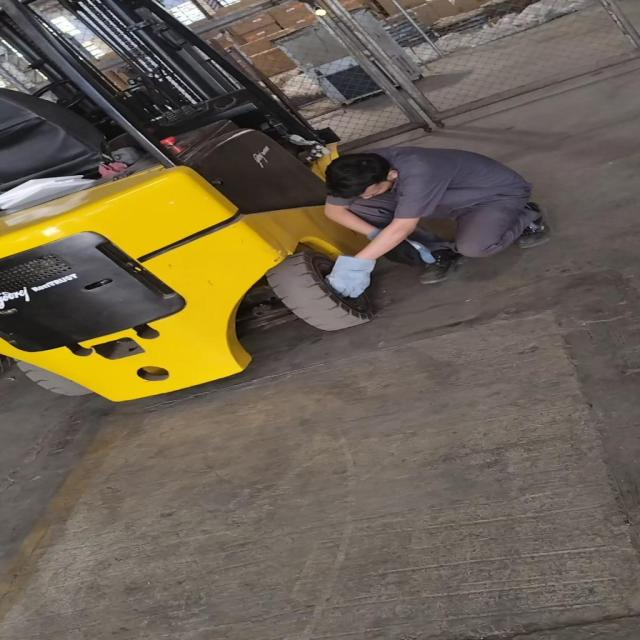Gloves-Detection: (328, 256, 375, 304), (370, 236, 434, 270)
